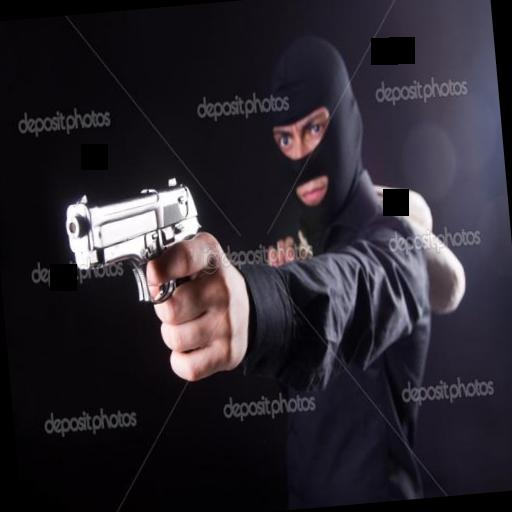Handgun: (54, 158, 218, 356)
